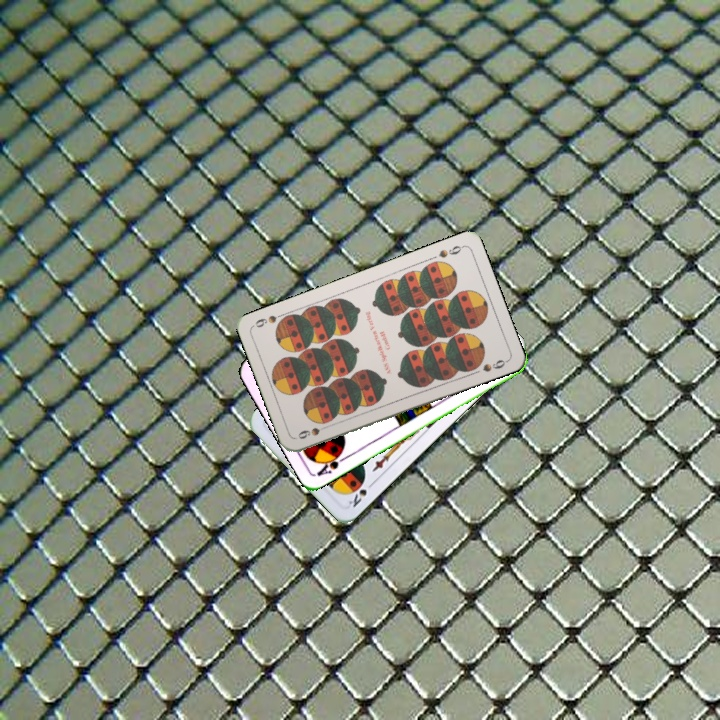S9: (294, 421, 333, 442), (435, 241, 466, 260)
SA: (313, 447, 350, 479)
SK: (344, 477, 377, 510)
